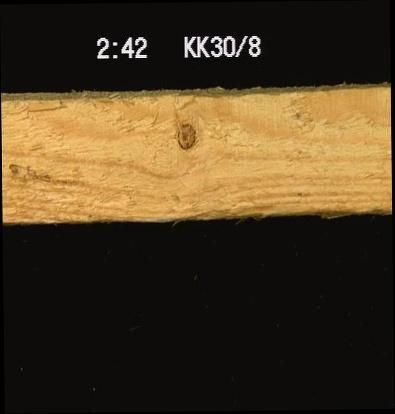dry_knot: (174, 119, 197, 152)
split: (16, 95, 71, 121)
